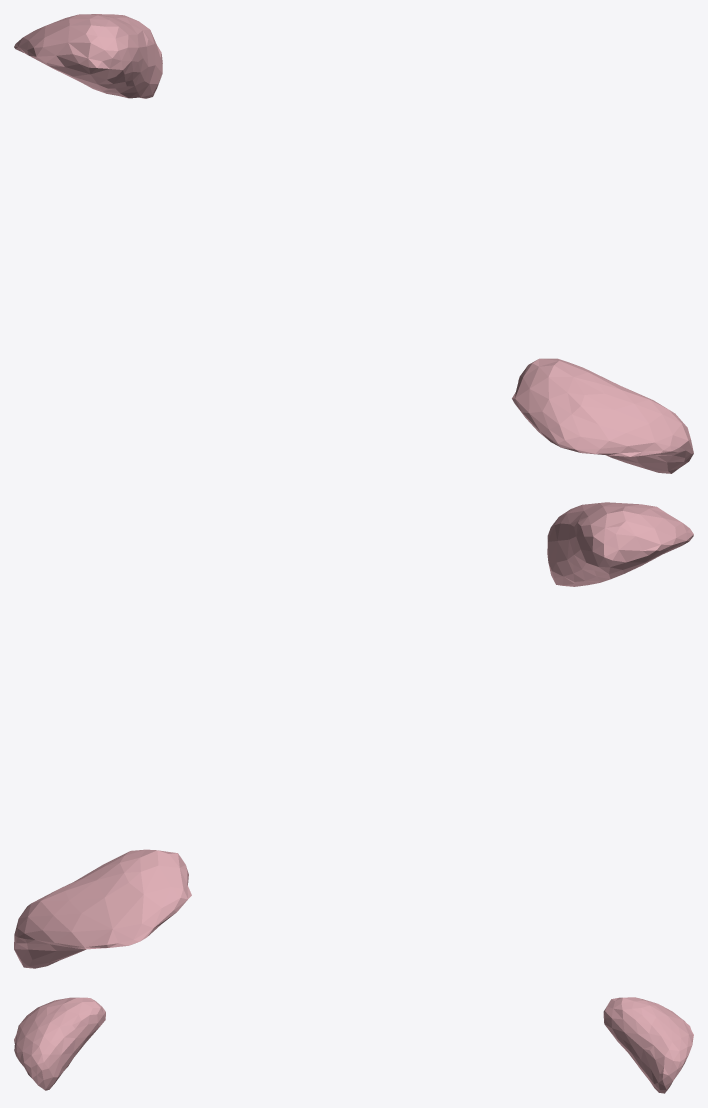
3 renders of one model, top to bottom at view 1: azimuth 30°, elevation 25°; view 2: azimuth 150°, elevation 25°; view 3: azimuth 270°, elevation 25°, orthographic. The views are drawn at different scales.
Visible parts, largest first — view 1: 560581563.obj; view 2: 560581563.obj; view 3: 560581563.obj.
Boxes of the visible parts, bbox=[...] form: 560581563.obj: bbox=[14, 14, 693, 473]; 560581563.obj: bbox=[14, 502, 693, 968]; 560581563.obj: bbox=[14, 997, 693, 1093].
Size of the model in its own units: 718 by 542 by 4845.
